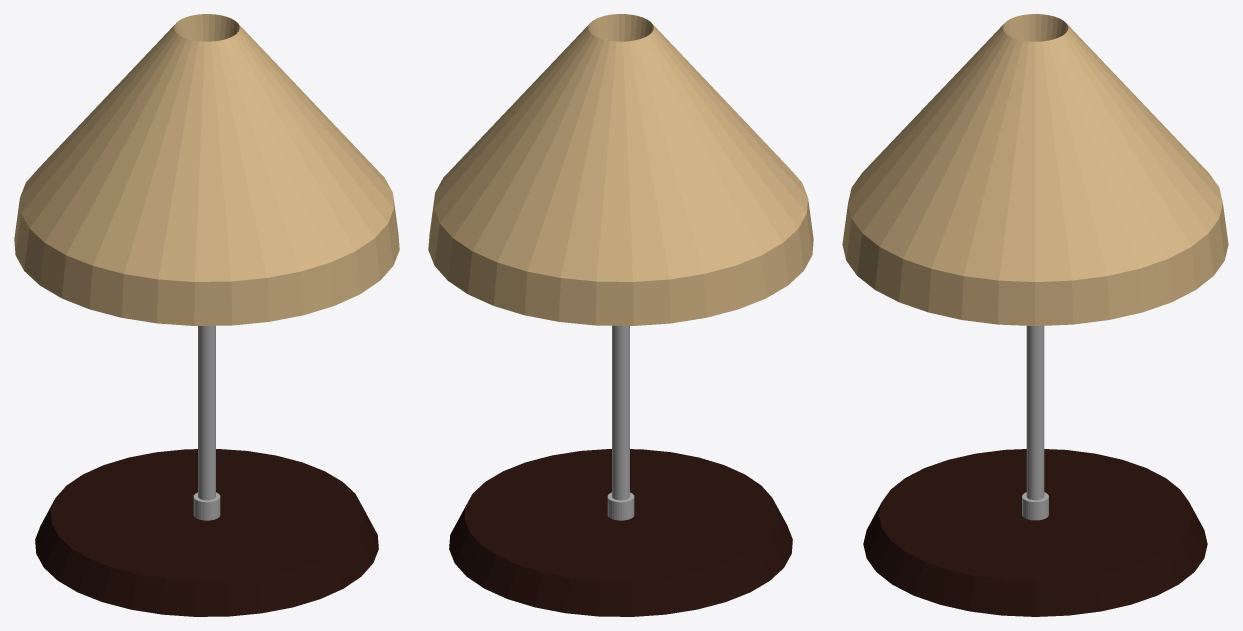
File: lamp.glb
3 renders of one model, left to right at view 1: azimuth 30°, elevation 25°; view 2: azimuth 150°, elevation 25°; view 3: azimuth 270°, elevation 25°, orthographic.
Parts seen in each view (by area): view 1: Cylinder; view 2: Cylinder; view 3: Cylinder.
Part boxes in pixels (box(x1,y1,x2,y2)): Cylinder: box(14, 14, 399, 616); Cylinder: box(428, 14, 813, 616); Cylinder: box(842, 14, 1228, 616).
Size of the model in its own units: 1.12 by 1.65 by 1.12.
